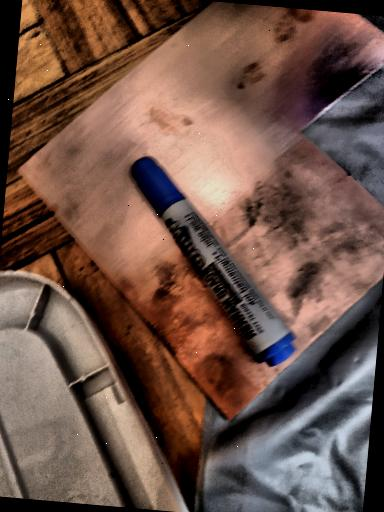marcador azul: (131, 157, 294, 365)
